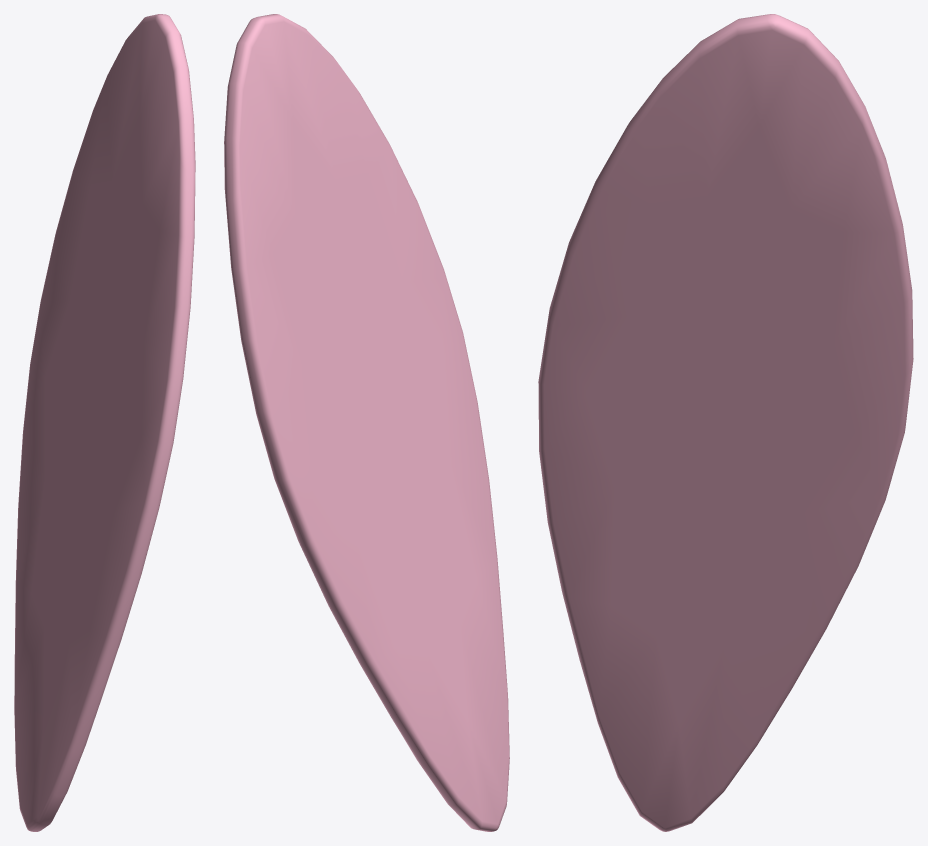
Rendered from pinkFlower_25.glb.
3 renders of one model, left to right at view 1: azimuth 30°, elevation 25°; view 2: azimuth 150°, elevation 25°; view 3: azimuth 270°, elevation 25°, orthographic. The views are drawn at different scales.
Visible parts, largest first — view 1: Petal_04_Elongated.094; view 2: Petal_04_Elongated.094; view 3: Petal_04_Elongated.094.
Boxes of the visible parts, x1,y1,x2,y2 form: Petal_04_Elongated.094: (14,14,195,831); Petal_04_Elongated.094: (224,14,509,831); Petal_04_Elongated.094: (538,14,913,831).
Size of the model in its own units: 0.8556 by 3.26 by 1.21.
